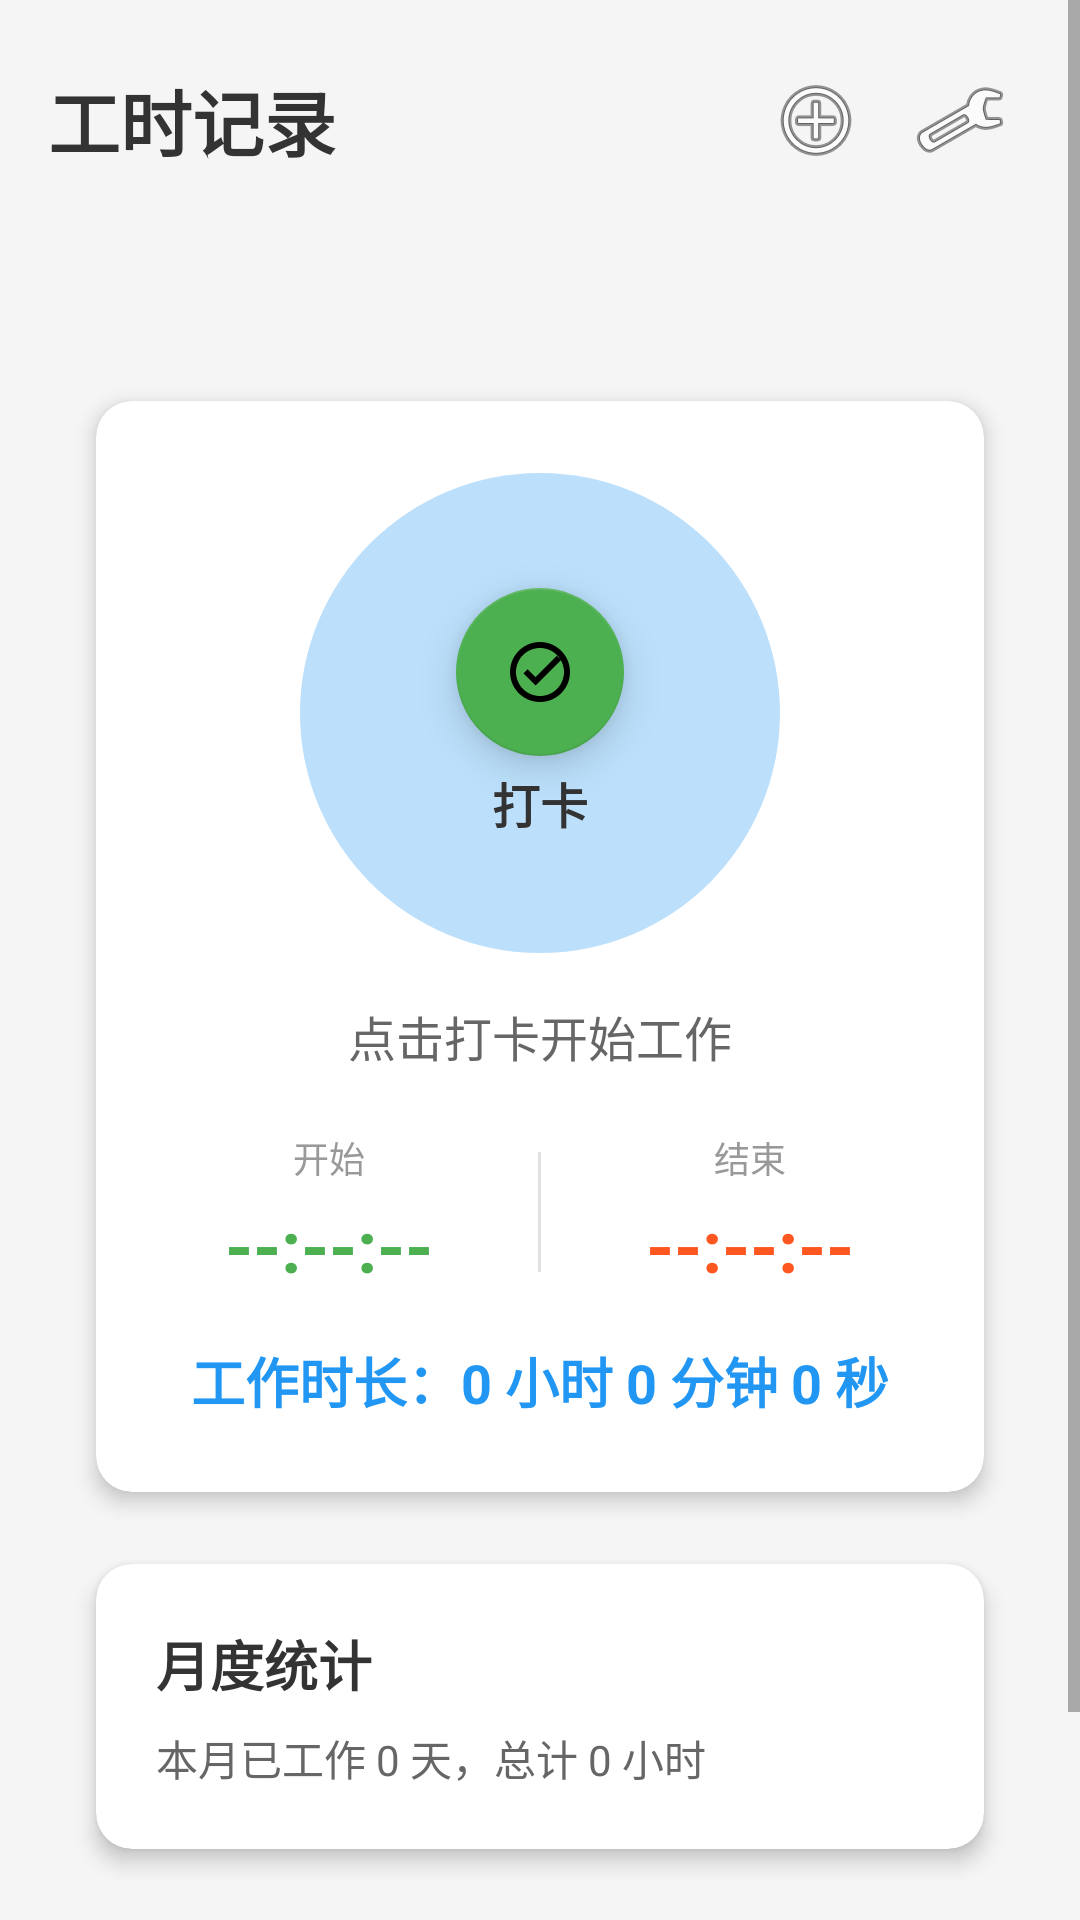

Screen size 1080px×1920px. Icon name, then its center in pixels as (x,y):
创建快捷方式: (816,120)
设置: (960,120)
